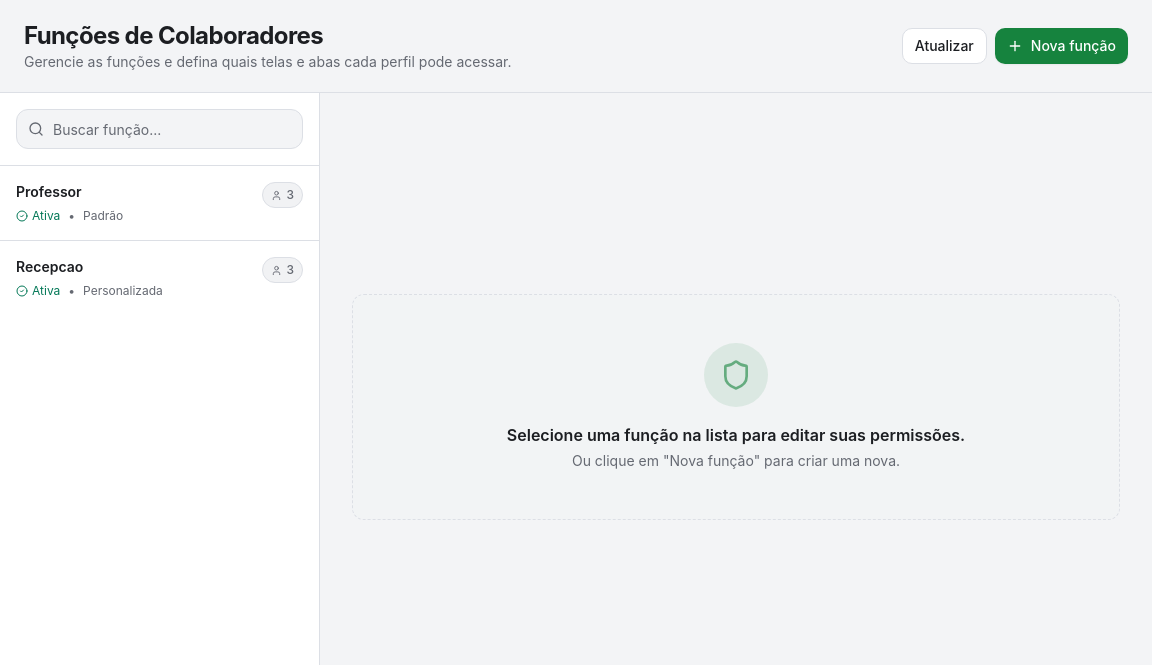
SettingsCollaboratorFunctions › organiza a edicao em guias acessiveis
Step 1. Click the button with aria-label "Abrir função: Professor" → (49, 192), box [0,166,319,240]
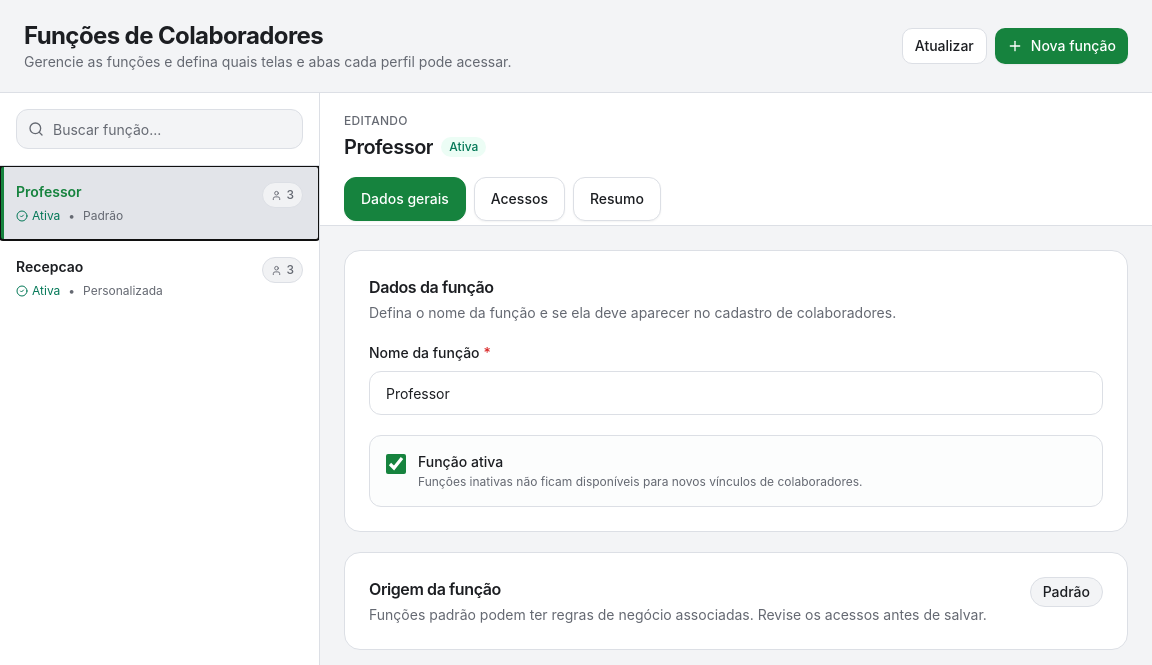
Step 2. Click the tab "Acessos" → (519, 199), box [474,177,565,221]
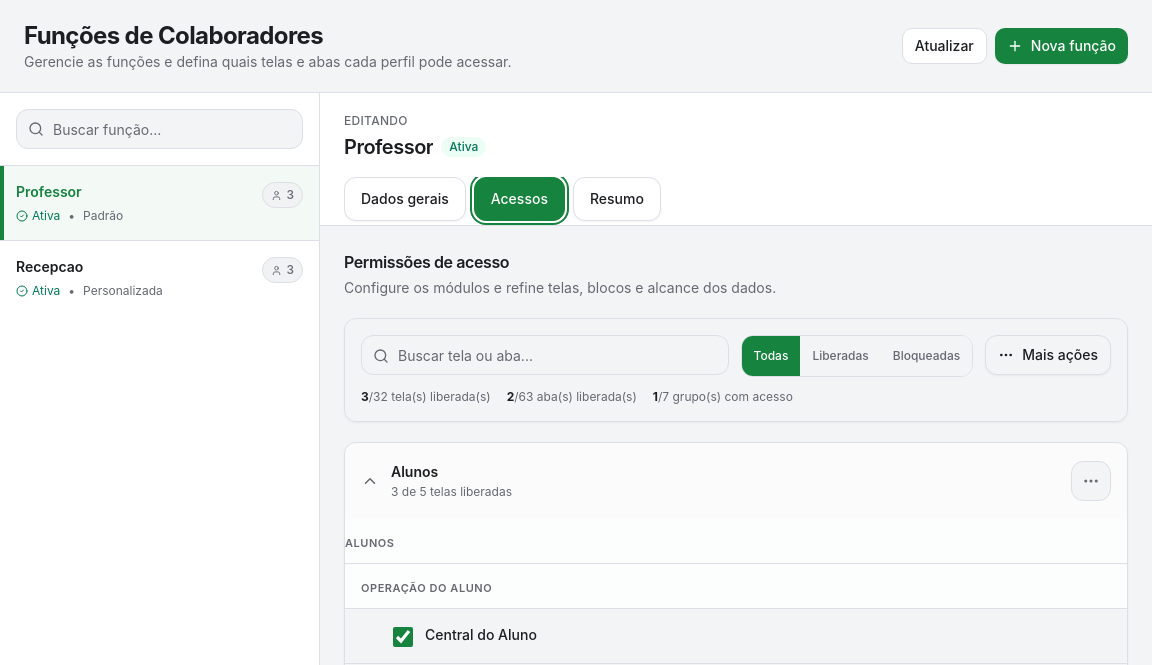
Result: the tab "Acessos" is selected at [474,177,565,221]
Step 3. Click the tab "Resumo" → (617, 199), box [573,177,661,221]
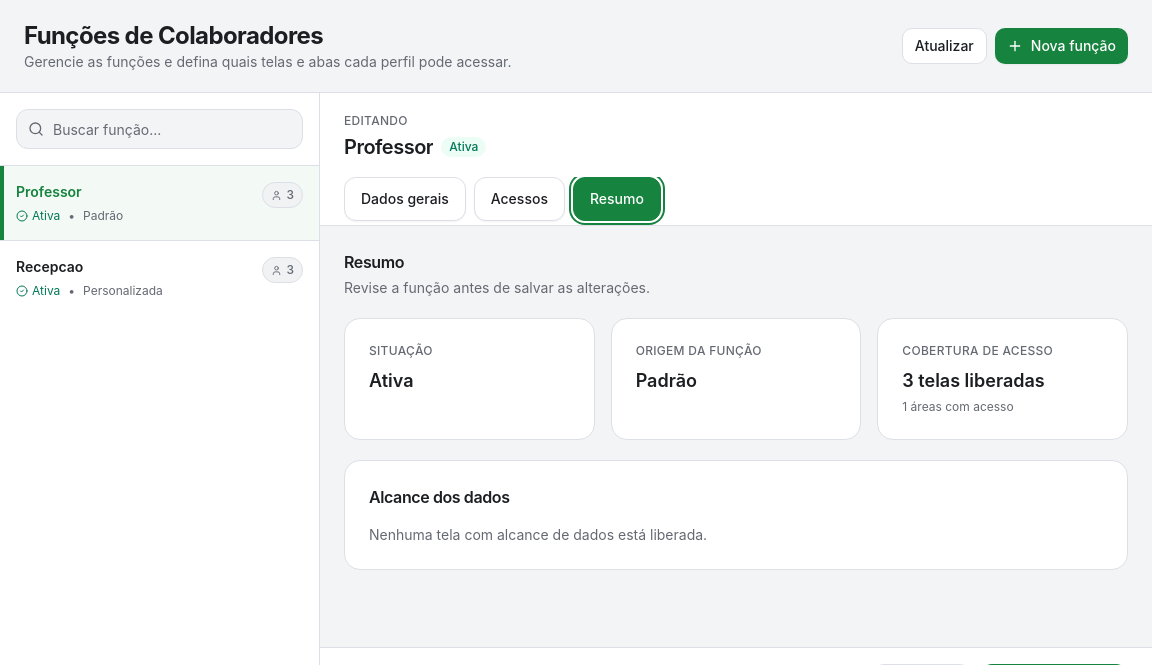
Result: the text "Cobertura de acesso" is shown at [902,343,1053,358]
